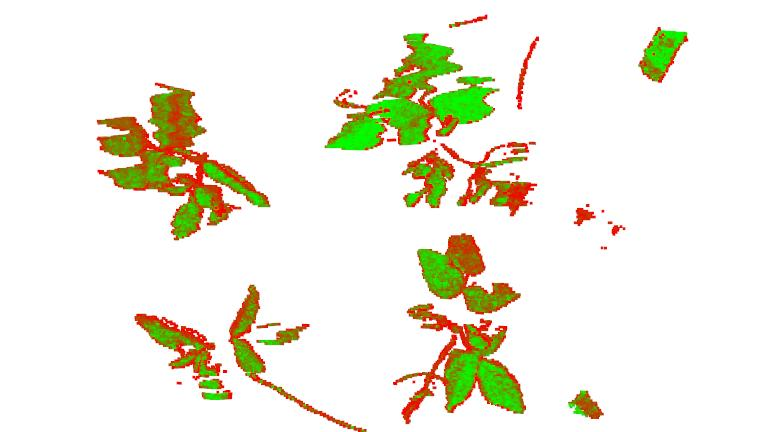mungbean: (325, 33, 541, 219), (97, 82, 274, 243), (392, 232, 531, 428), (129, 280, 311, 406)
